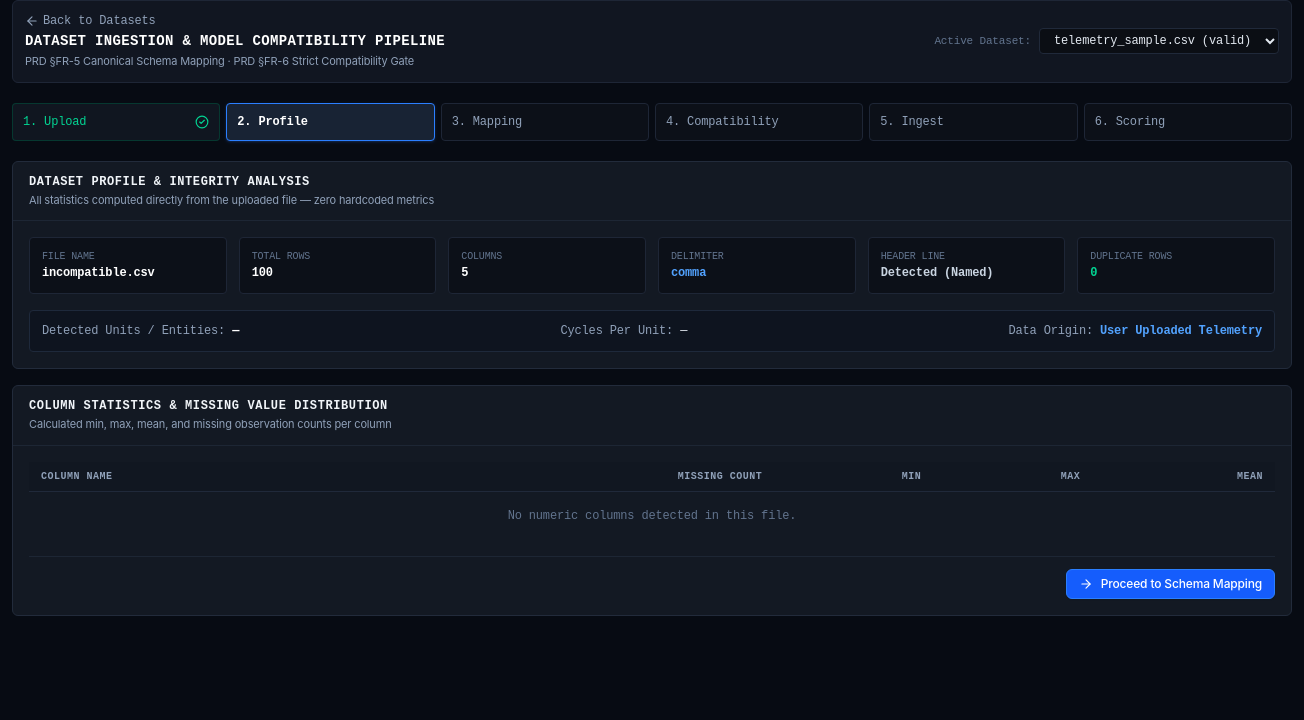
it: DatasetSchemaMappingPage Reviewer Wizard › strictly blocks incompatible dataset with PRD message and displays plain language diagnosis
// Click step 4 (Compatibility)
Click the button "4. Compatibility" at coordinates (759, 122), box [655,102,863,140]
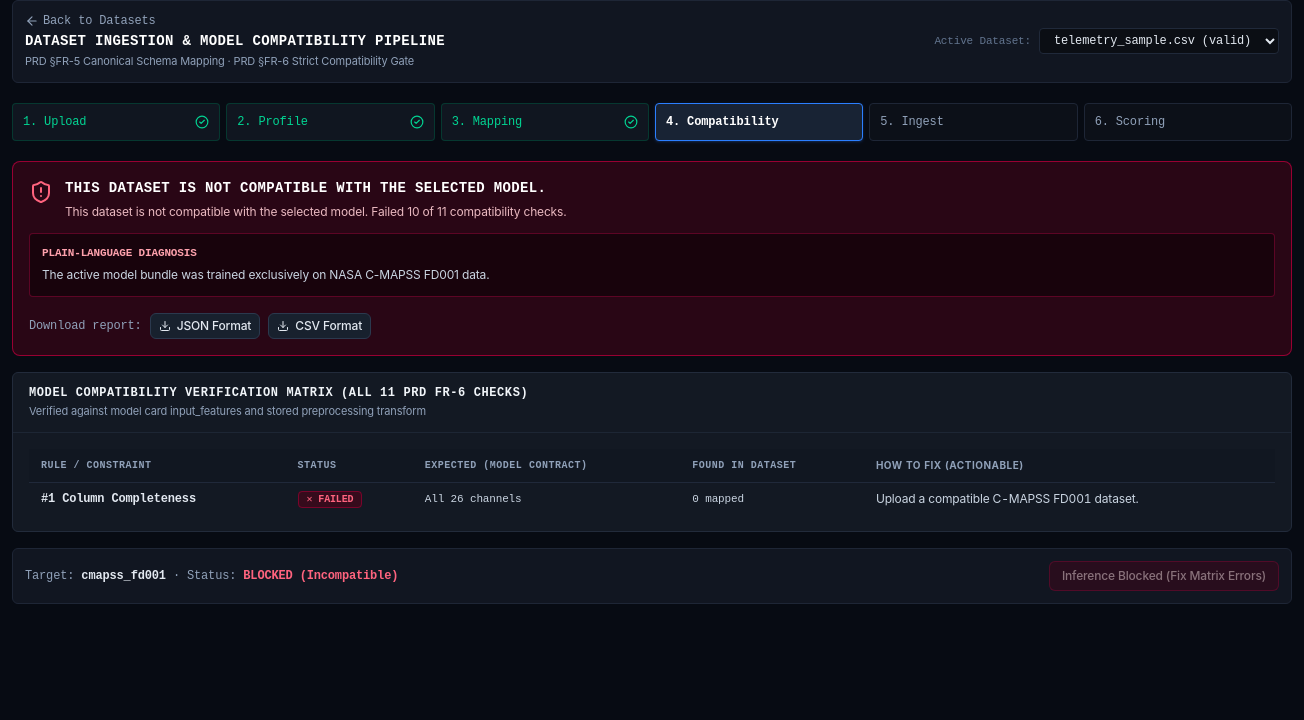
Expected: the text "This dataset is not compatible with the selected model." is shown, [65,178,566,198]
Expected: the button "Inference Blocked (Fix Matrix Errors)" is shown, [1049,561,1279,591]
Expected: the text "Plain-Language Diagnosis" is shown, [42,247,197,259]
